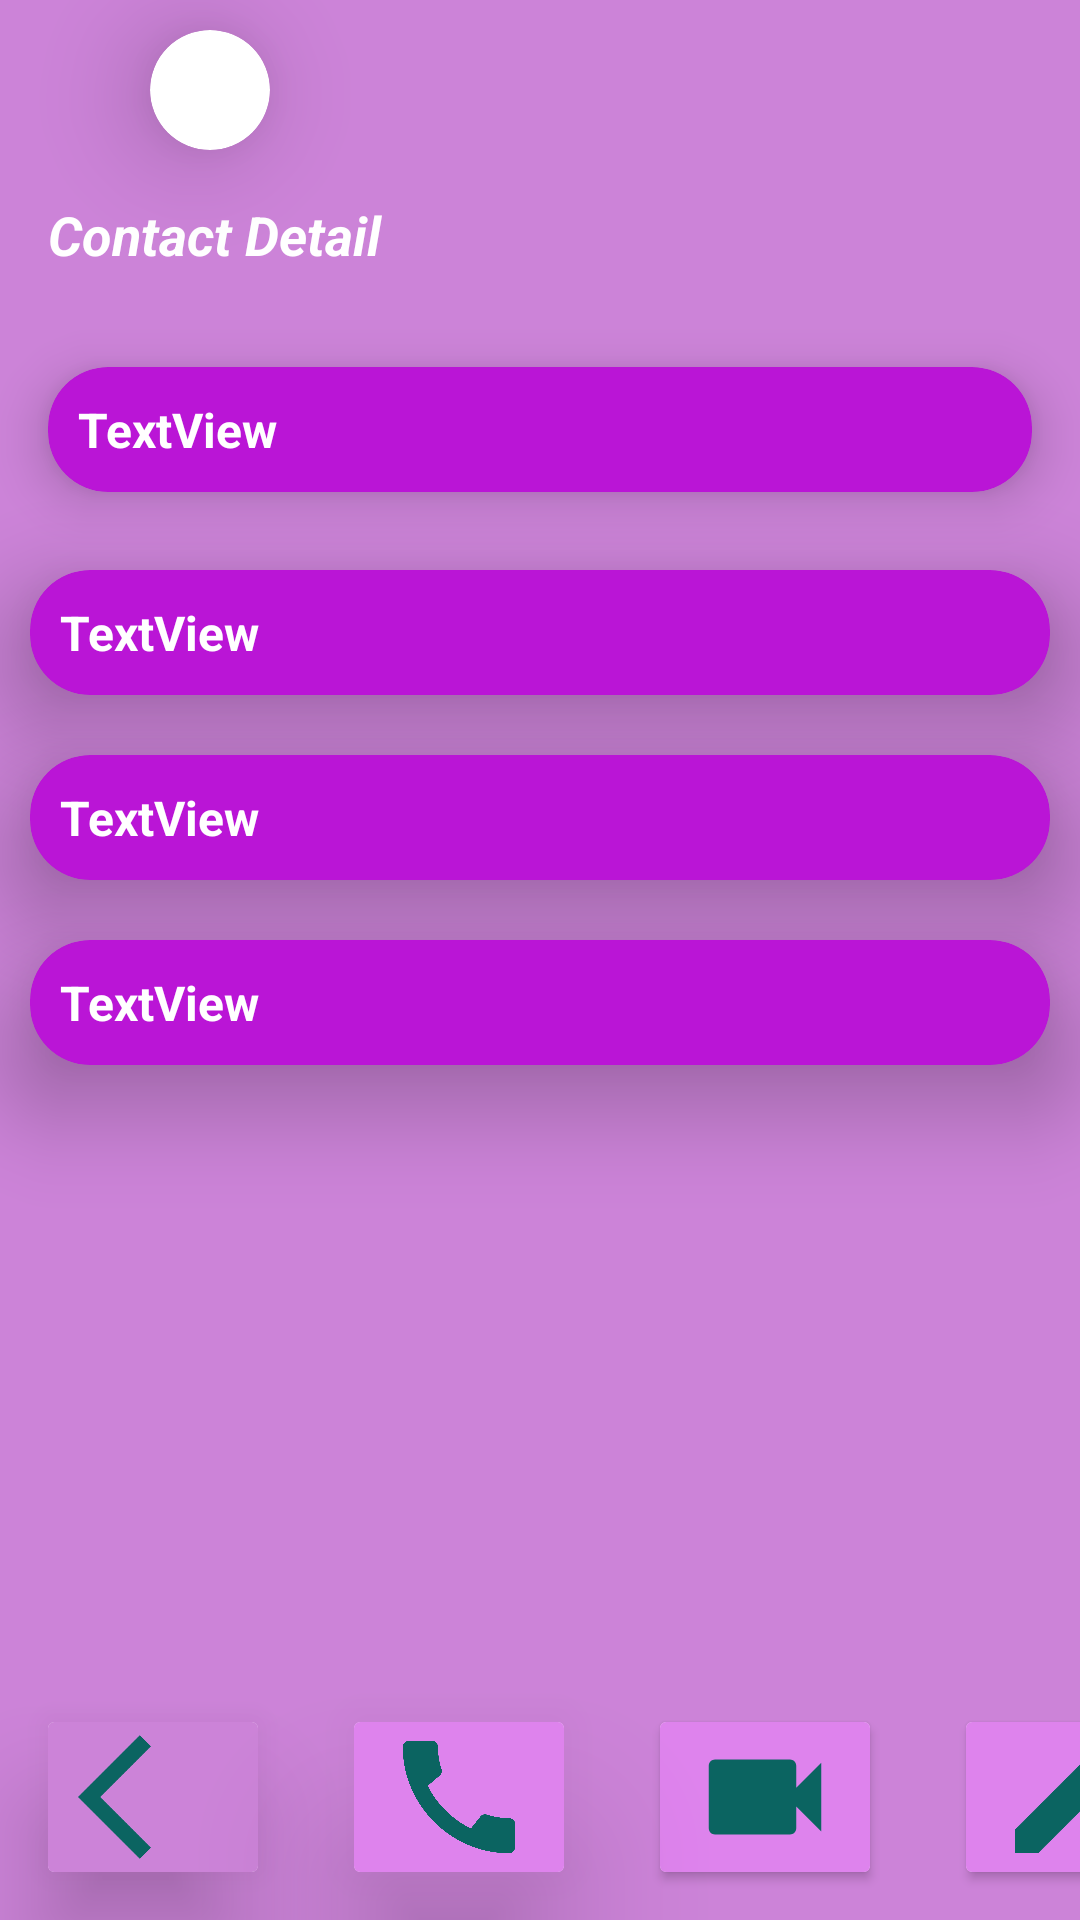

Icon bounding boxes for this 1080x1920 phone screenshot, format region(x1, y1, x2, y2):
back: region(78, 1735, 151, 1859)
call: region(354, 1722, 564, 1872)
videocam: region(660, 1722, 870, 1872)
